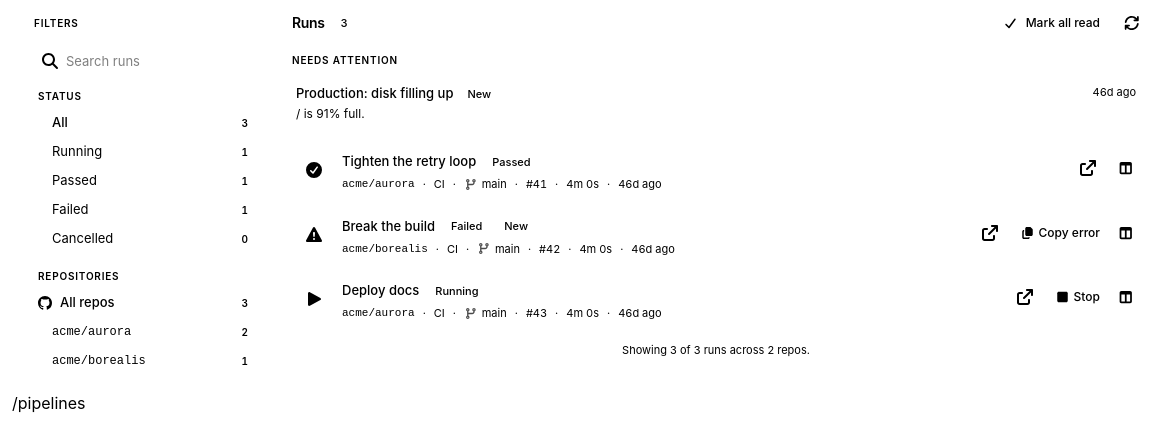
Test case: PipelinesPage failure notices › lists unread notices that open a page in the app, and follows their route
Click the button "Production: disk filling up New / is 91% full. 46d ago": (375, 93) [284, 74, 1148, 132]
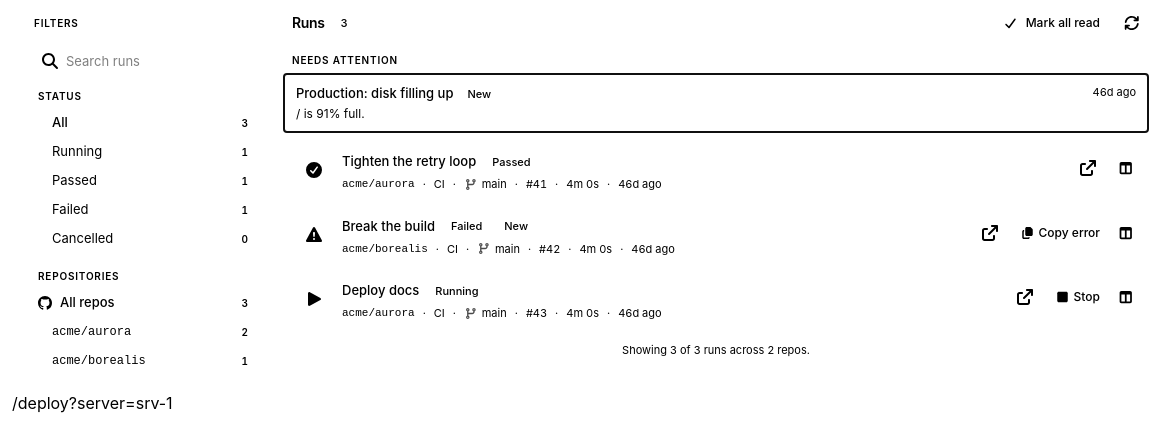
Result: the text with test id "location" reads "/deploy?server=srv-1" at [12, 393, 173, 413]
